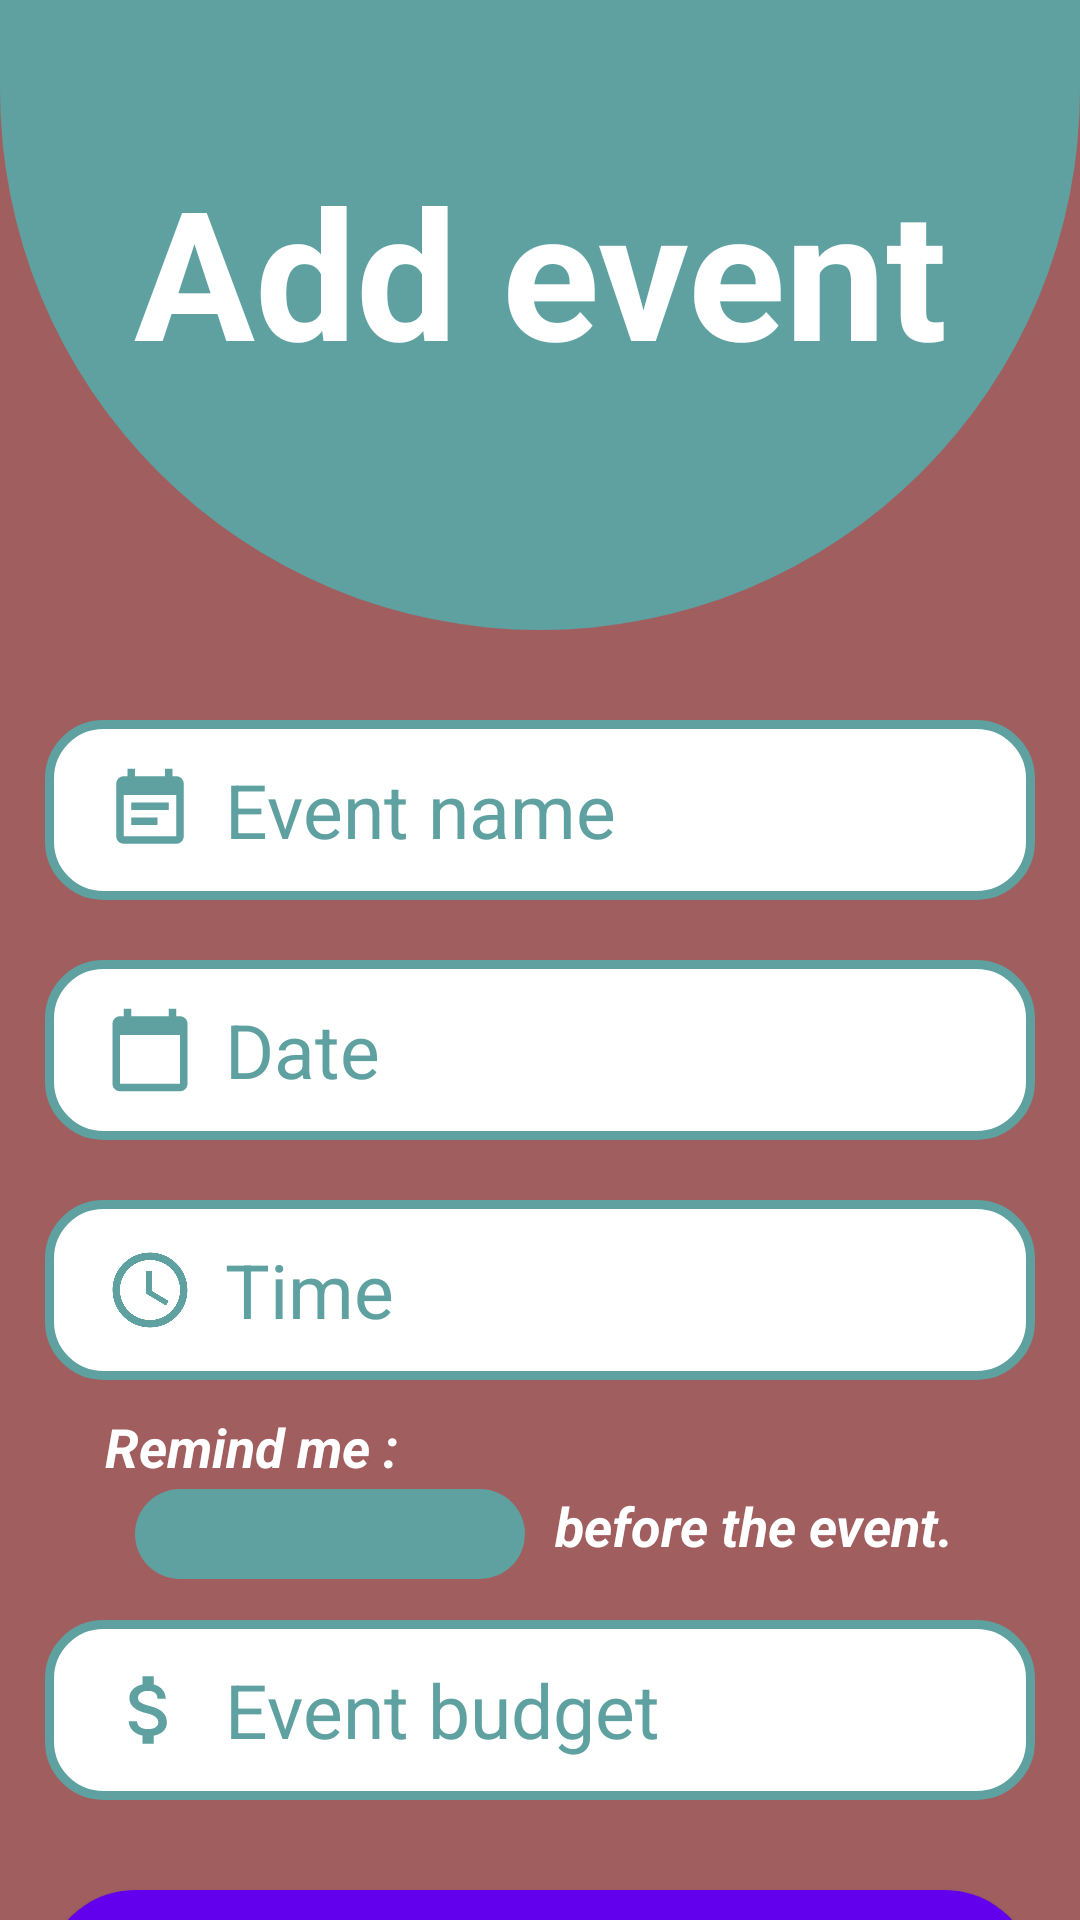

Screen size 1080x1920. Icon name, then its box in pixels as Rect(x1, y1, x2, y2):
attach money: Rect(128, 1676, 167, 1744)
calendar today: Rect(112, 1008, 188, 1092)
event note: Rect(116, 768, 184, 844)
